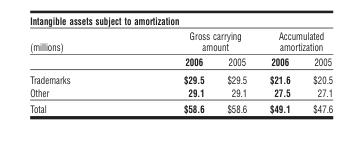table: (29, 28, 332, 114)
table column: (29, 28, 126, 114), (126, 28, 215, 114), (257, 28, 301, 114), (215, 28, 257, 114), (301, 28, 332, 114)
table column header: (29, 28, 332, 70)
table row: (29, 28, 332, 53), (29, 53, 332, 70), (29, 70, 332, 85), (29, 85, 332, 100), (29, 100, 332, 114)
table spanning cell: (29, 28, 126, 70), (126, 28, 257, 53), (257, 28, 332, 53)
